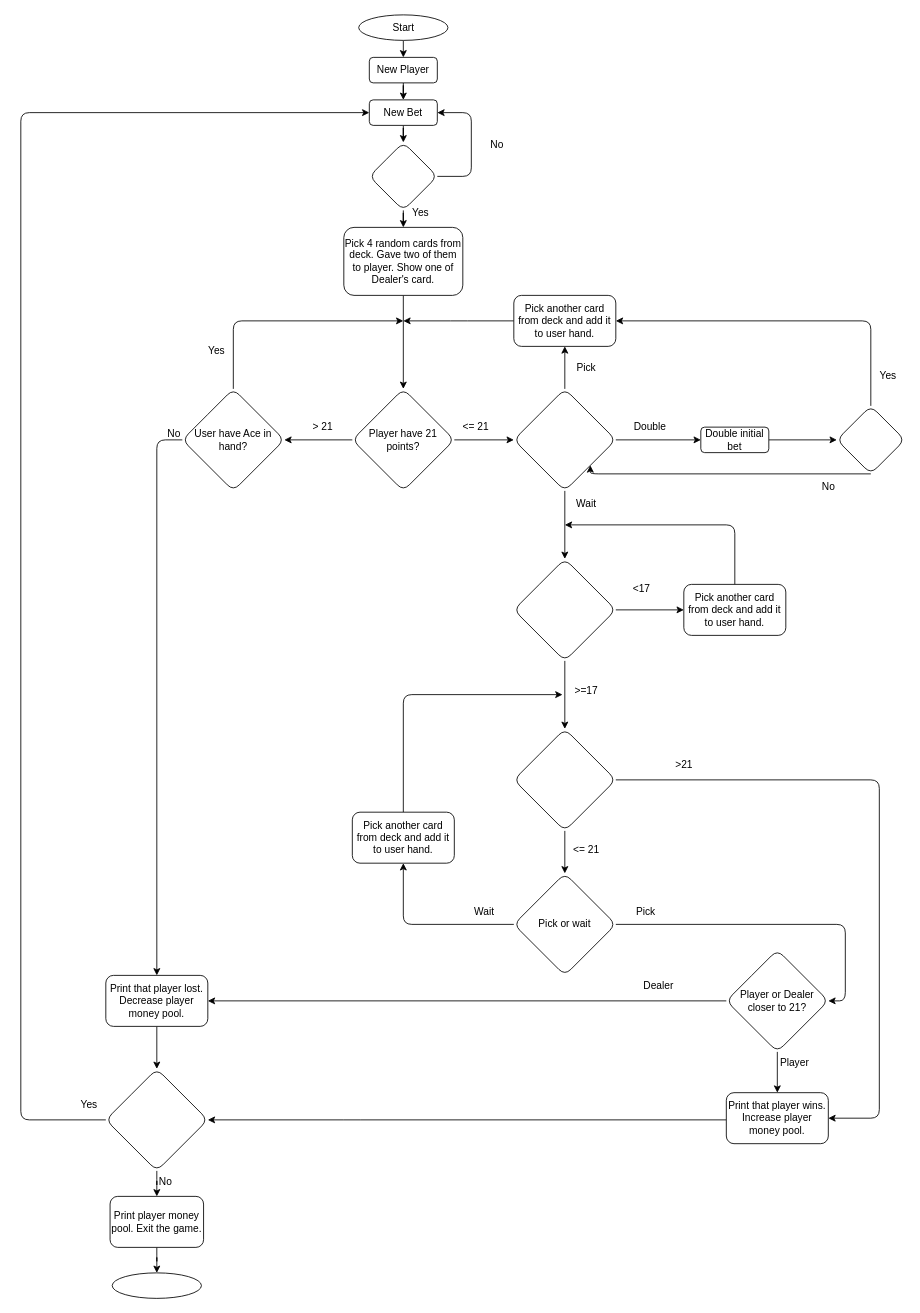
This 920x1313 diagram has some shape labels left out. The centre of each missing label's shape, as x and y in pixels:
Dealer have 21 points?: (564,779)
Dealer have <17 points?: (564,609)
End: (156,1285)
Enough money: (870,439)
Enough money?: (402,176)
Pick, Double or Wait: (564,439)
Play again?: (156,1119)
